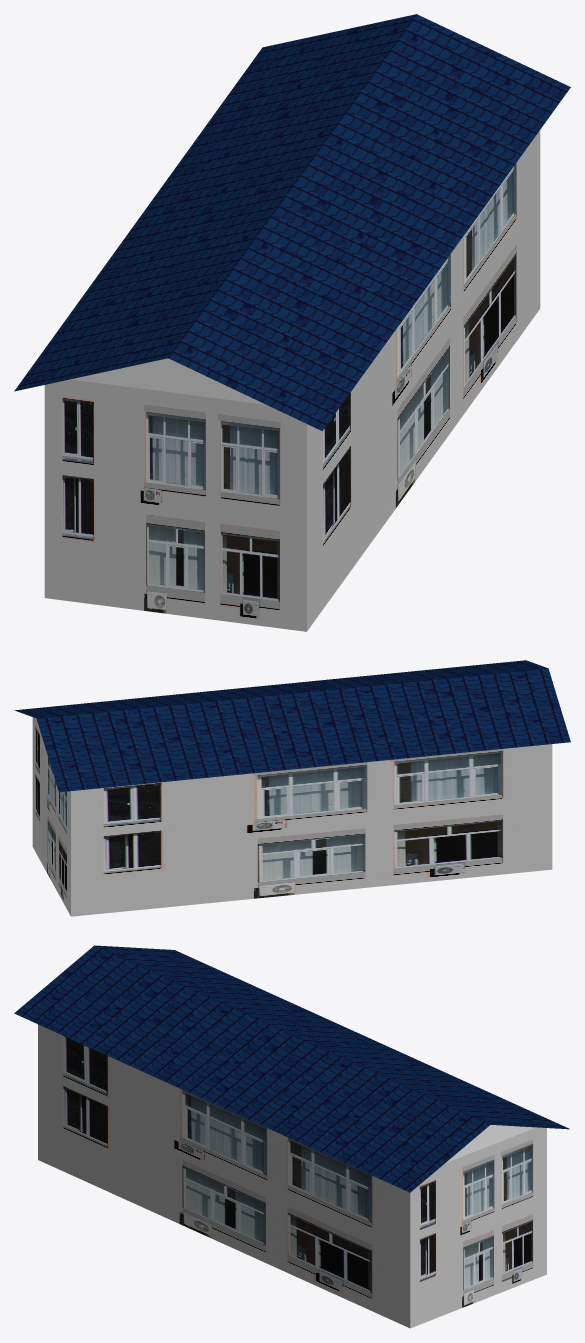
The picture shows the model from 3 angles, top to bottom: view 1: azimuth 30°, elevation 25°; view 2: azimuth 150°, elevation 25°; view 3: azimuth 270°, elevation 25°; orthographic projection. The views are drawn at different scales.
Visible parts, largest first — view 1: CityEngineMaterial_6_m, CityEngineMaterial_9_m, CityEngineMaterial_3_m; view 2: CityEngineMaterial_9_m, CityEngineMaterial_6_m; view 3: CityEngineMaterial_9_m, CityEngineMaterial_6_m, CityEngineMaterial_3_m.
Part boxes in pixels (x1,y1,x2,y2): CityEngineMaterial_6_m: (14, 14, 570, 431); CityEngineMaterial_9_m: (44, 130, 540, 631); CityEngineMaterial_3_m: (70, 358, 265, 404); CityEngineMaterial_9_m: (32, 717, 552, 916); CityEngineMaterial_6_m: (14, 660, 570, 792); CityEngineMaterial_9_m: (38, 1024, 546, 1328); CityEngineMaterial_6_m: (14, 945, 569, 1192); CityEngineMaterial_3_m: (445, 1125, 535, 1163).
Bounding box in the file's own units: 32.79 × 11.47 × 31.79.
